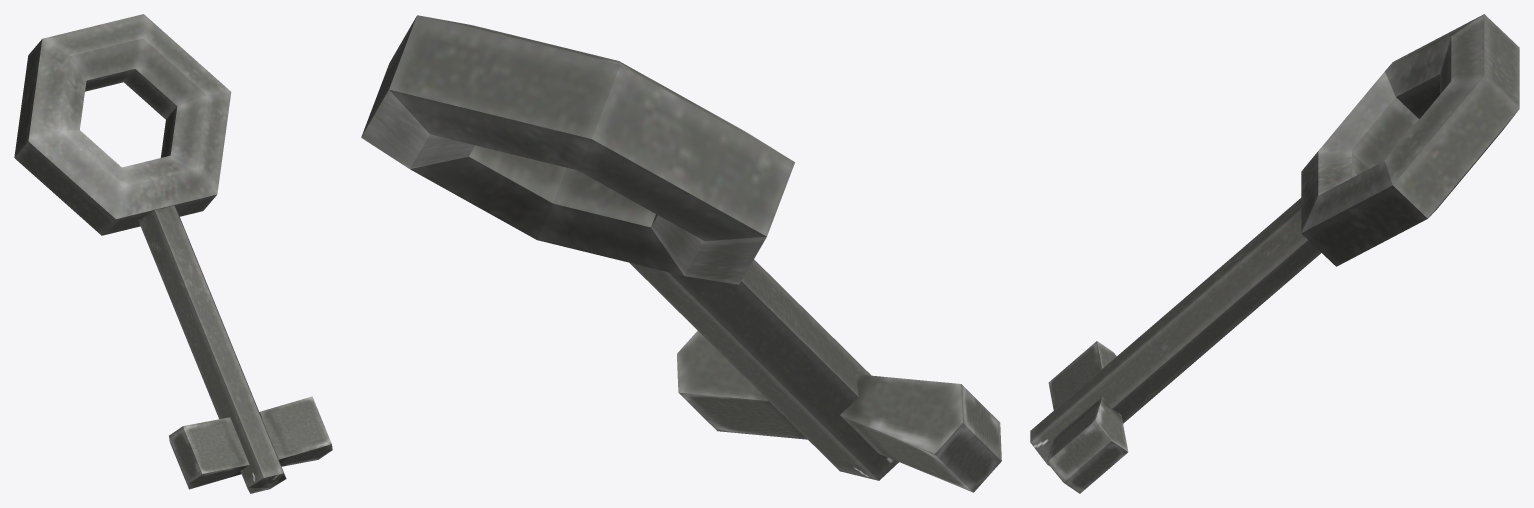
Rendered from key.dae.
3 views of the same model, side by side, from view 1: azimuth 30°, elevation 25°; view 2: azimuth 150°, elevation 25°; view 3: azimuth 270°, elevation 25° (orthographic). The views are drawn at different scales.
Visible parts, largest first — view 1: Circle.016; view 2: Circle.016; view 3: Circle.016.
Boxes of the visible parts, box(x1,y1,x2,y2) form: Circle.016: box(14, 14, 332, 493); Circle.016: box(361, 15, 1001, 492); Circle.016: box(1030, 14, 1519, 493).
Size of the model in its own units: 0.9912 by 1.66 by 1.59.
1 material, 1 textured.
